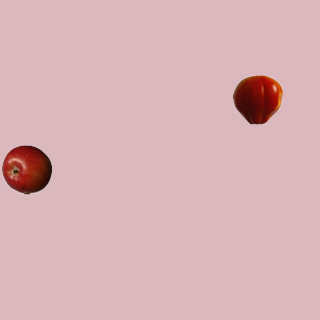Apple Braeburn: (1, 144, 51, 194)
Tomato 1: (232, 74, 282, 124)
